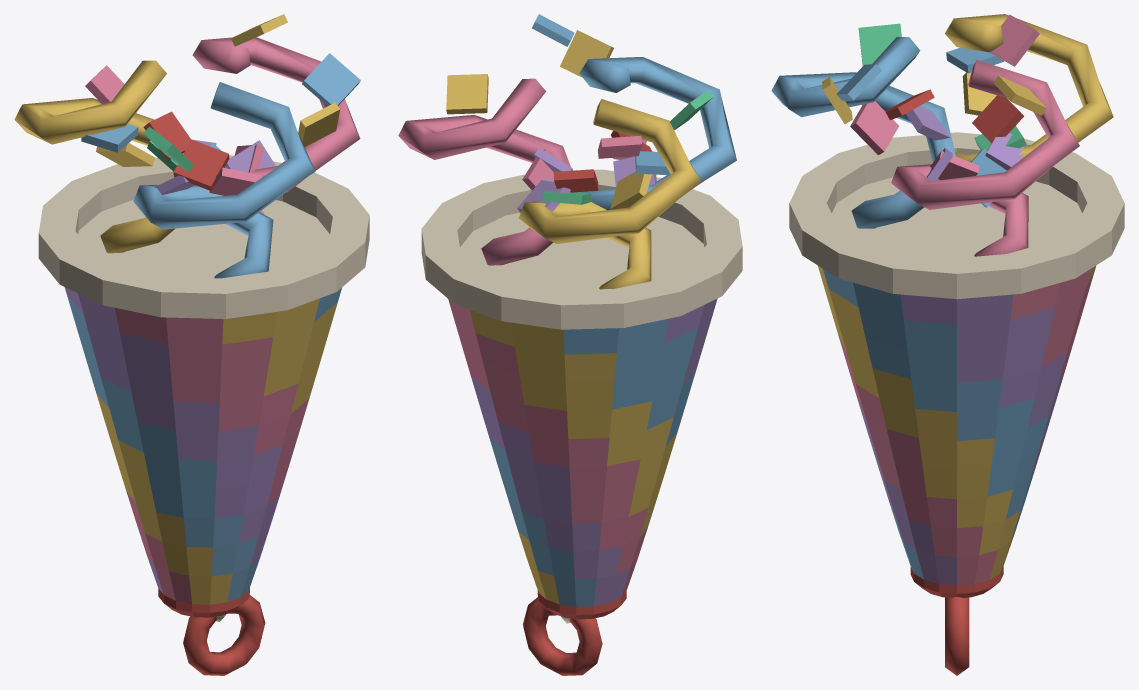
The model's file is pvp_fun_confetti.fbx.
3 views of the same model, side by side, from view 1: azimuth 30°, elevation 25°; view 2: azimuth 150°, elevation 25°; view 3: azimuth 270°, elevation 25° (orthographic). The views are drawn at different scales.
Parts seen in each view (by area): view 1: pvp_fun_confetti; view 2: pvp_fun_confetti; view 3: pvp_fun_confetti.
Part boxes in pixels (box(x1,y1,x2,y2)): pvp_fun_confetti: box(14, 14, 369, 675); pvp_fun_confetti: box(398, 14, 742, 675); pvp_fun_confetti: box(771, 14, 1124, 675).
Bounding box in the file's own units: 1.52 × 3.03 × 1.52.
